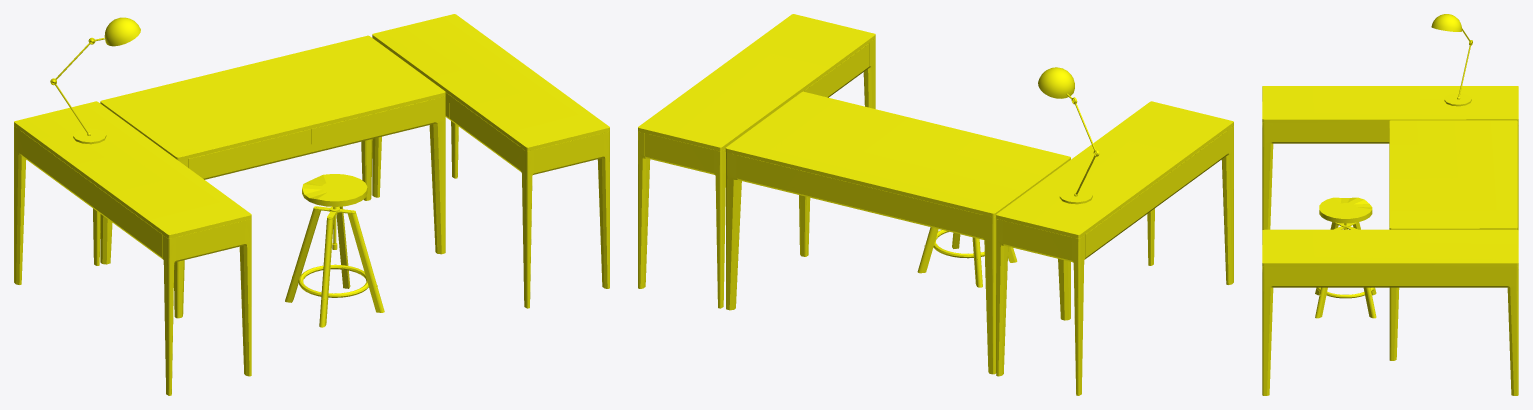
The model's file is Table004.FBX.
3 views of the same model, side by side, from view 1: azimuth 30°, elevation 25°; view 2: azimuth 150°, elevation 25°; view 3: azimuth 270°, elevation 25° (orthographic). The views are drawn at different scales.
Visible parts, largest first — view 1: Table04; view 2: Table04; view 3: Table04.
Boxes of the visible parts, box(x1,y1,x2,y2) form: Table04: box(14, 14, 609, 395); Table04: box(638, 14, 1233, 395); Table04: box(1262, 14, 1518, 395).
Size of the model in its own units: 2.3 by 1.4 by 1.39.
